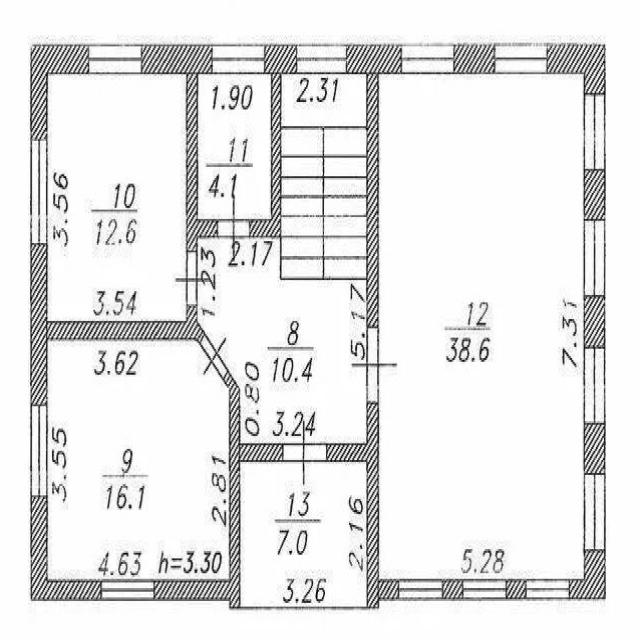Corridors: (198, 238, 367, 442), (241, 463, 367, 608)
Doors: (351, 326, 397, 403), (282, 419, 327, 490), (218, 193, 249, 262), (175, 250, 210, 305), (200, 331, 228, 380)
LBwalls: (347, 44, 402, 328), (30, 497, 100, 602), (30, 44, 89, 139), (547, 43, 606, 93), (30, 244, 48, 404), (366, 401, 379, 609), (142, 45, 213, 74), (569, 549, 606, 600), (154, 580, 230, 601), (453, 45, 495, 74), (583, 169, 606, 219), (584, 297, 605, 349), (584, 422, 605, 473), (264, 44, 297, 73), (443, 578, 463, 600), (507, 579, 527, 601), (379, 579, 399, 600)
Offices: (379, 76, 583, 579), (48, 341, 228, 580), (49, 75, 186, 320), (199, 75, 270, 218)
Stairs: (280, 75, 367, 281)
Walls: (223, 369, 283, 610), (48, 304, 205, 345), (186, 73, 218, 251), (250, 73, 281, 238), (327, 443, 366, 462)
Windows: (31, 139, 47, 244), (583, 94, 605, 169), (494, 43, 547, 74), (584, 219, 605, 296), (584, 474, 605, 550), (31, 404, 48, 497), (584, 348, 605, 423), (89, 45, 142, 74), (212, 45, 264, 74), (402, 45, 454, 73), (297, 45, 347, 73), (101, 580, 154, 601), (463, 579, 507, 599), (399, 579, 443, 599), (527, 580, 569, 599)
